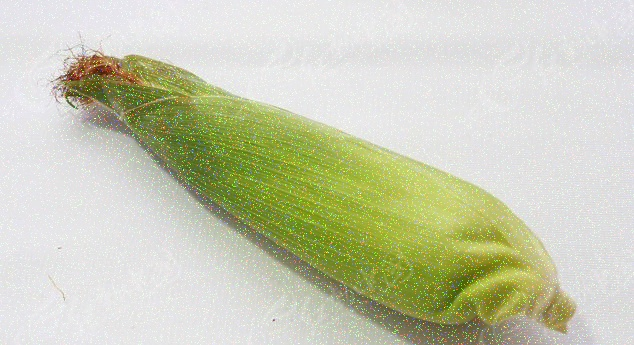corn_plant: (48, 33, 588, 344)
